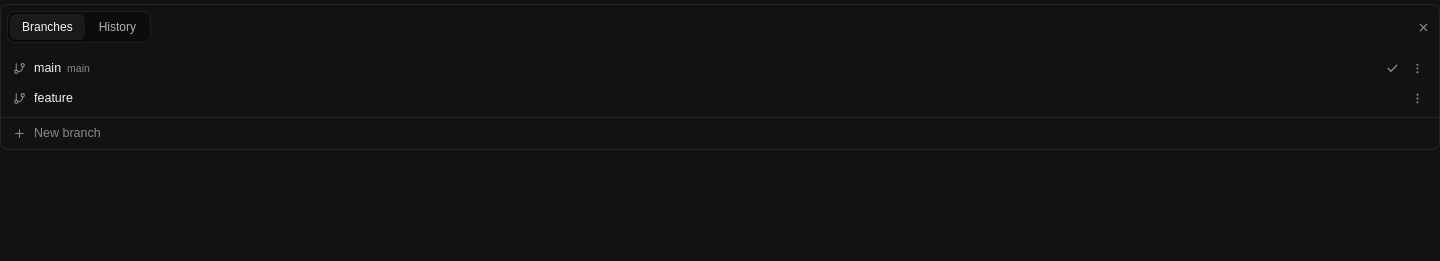
Scenario: BranchCard (B12) › a failed mutation surfaces the error on the card (run pipeline)
Click the 5th button at (1417,98), box [1410,92,1424,104]
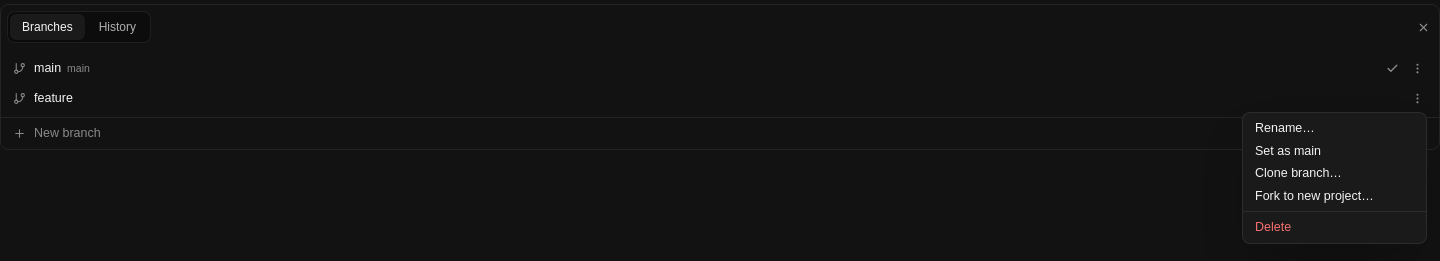
Click the button "Rename…" at (1334,128), box [1247,117,1422,140]
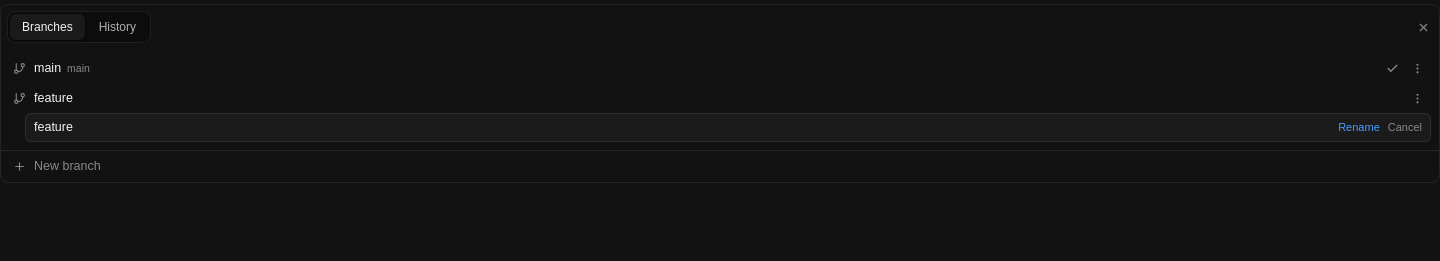
Replace the text in the field with placeholder "Branch name…" with "taken" at (682,127), box [34,118,1330,137]
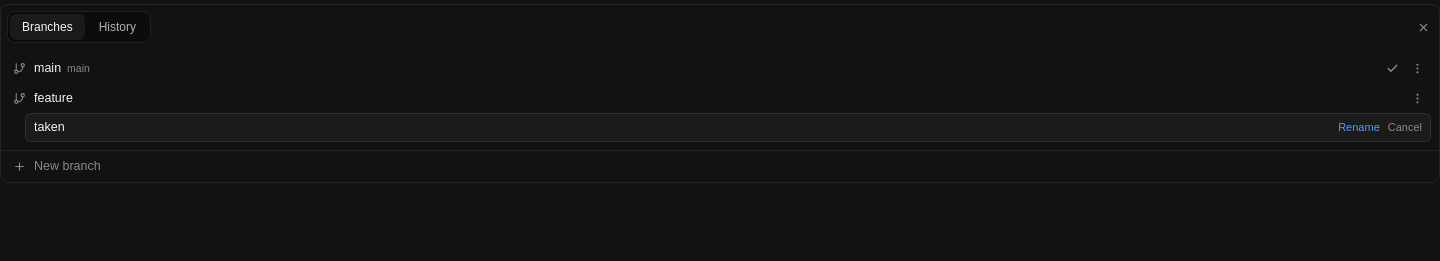
Press Enter in the field with placeholder "Branch name…", box [34,118,1330,137]
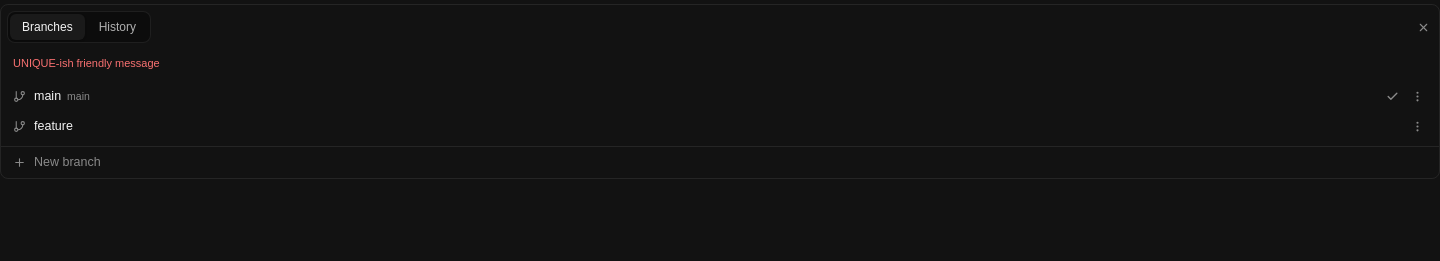
Check: the text "UNIQUE-ish friendly message" is shown, box [13,57,160,69]
